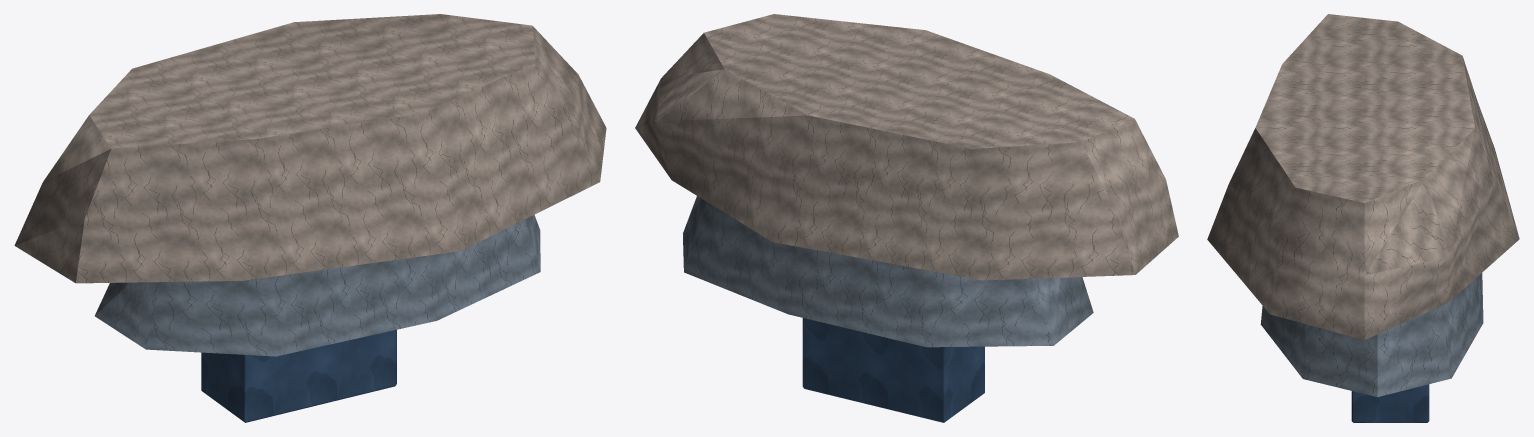
Rendered from overhanging_ledge.glb.
3 renders of one model, left to right at view 1: azimuth 30°, elevation 25°; view 2: azimuth 150°, elevation 25°; view 3: azimuth 270°, elevation 25°, orthographic. The views are drawn at different scales.
Parts seen in each view (by area): view 1: DL015_OverhangingLedge_stone_warm, DL015_OverhangingLedge_stone_blue, DL015_OverhangingLedge_shadow_blue; view 2: DL015_OverhangingLedge_stone_warm, DL015_OverhangingLedge_stone_blue, DL015_OverhangingLedge_shadow_blue; view 3: DL015_OverhangingLedge_stone_warm, DL015_OverhangingLedge_stone_blue, DL015_OverhangingLedge_shadow_blue.
Boxes of the visible parts, bbox=[...] form: DL015_OverhangingLedge_stone_warm: bbox=[14, 14, 606, 283]; DL015_OverhangingLedge_stone_blue: bbox=[95, 214, 540, 356]; DL015_OverhangingLedge_shadow_blue: bbox=[201, 329, 396, 422]; DL015_OverhangingLedge_stone_warm: bbox=[635, 14, 1178, 280]; DL015_OverhangingLedge_stone_blue: bbox=[683, 196, 1093, 347]; DL015_OverhangingLedge_shadow_blue: bbox=[802, 318, 984, 422]; DL015_OverhangingLedge_stone_warm: bbox=[1207, 14, 1519, 339]; DL015_OverhangingLedge_stone_blue: bbox=[1260, 273, 1483, 396]; DL015_OverhangingLedge_shadow_blue: bbox=[1351, 384, 1429, 422].
Bounding box in the file's own units: 8.83 × 4.8 × 4.83.
4 materials, 3 textured.
